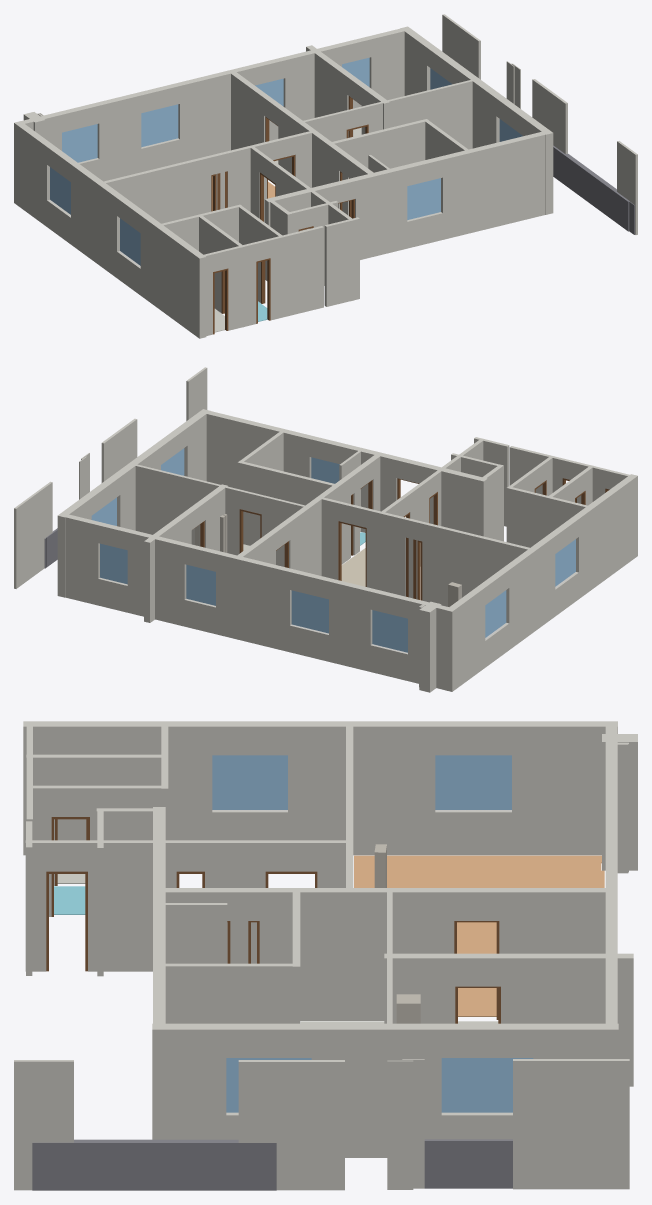
3 views of the same model, one above another, from view 1: azimuth 30°, elevation 25°; view 2: azimuth 150°, elevation 25°; view 3: azimuth 270°, elevation 25° (orthographic). The views are drawn at different scales.
Visible parts, largest first — view 1: walls, railings, window_18, window_9, window_17, window_11, window_16, window_19; view 2: walls, window_18, window_17, window_13, window_19, window_16, window_11, floor_4_Entry, window_9; view 3: walls, railings, floor_0_Living_Room, window_16, window_11, window_15, floor_8_Bath, window_21, furniture_1_closet, door_1.
Boxes of the visible parts, left/top/right/bottom form: walls: left=14, top=14, right=637, bottom=338; railings: left=553, top=145, right=634, bottom=234; window_18: left=141, top=104, right=178, bottom=147; window_9: left=407, top=178, right=440, bottom=219; window_17: left=62, top=124, right=97, bottom=162; window_11: left=120, top=218, right=140, bottom=265; window_16: left=50, top=167, right=70, bottom=214; window_19: left=342, top=57, right=369, bottom=86; walls: left=14, top=367, right=637, bottom=692; window_18: left=291, top=590, right=328, bottom=633; window_17: left=372, top=610, right=407, bottom=652; window_13: left=186, top=564, right=215, bottom=605; window_19: left=100, top=543, right=127, bottom=584; window_16: left=485, top=590, right=506, bottom=637; window_11: left=555, top=539, right=575, bottom=586; floor_4_Entry: left=341, top=548, right=365, bottom=586; window_9: left=311, top=457, right=339, bottom=483; walls: left=14, top=721, right=637, bottom=1190; railings: left=32, top=1139, right=512, bottom=1190; floor_0_Living_Room: left=354, top=855, right=604, bottom=1016; window_16: left=435, top=755, right=511, bottom=809; window_11: left=212, top=755, right=287, bottom=809; window_15: left=441, top=1058, right=533, bottom=1112; floor_8_Bath: left=54, top=886, right=85, bottom=914; window_21: left=226, top=1058, right=311, bottom=1112; furniture_1_closet: left=396, top=994, right=420, bottom=1023; door_1: left=46, top=871, right=87, bottom=971.
Bounding box in the file's own units: 15.35 × 2.72 × 11.88.
